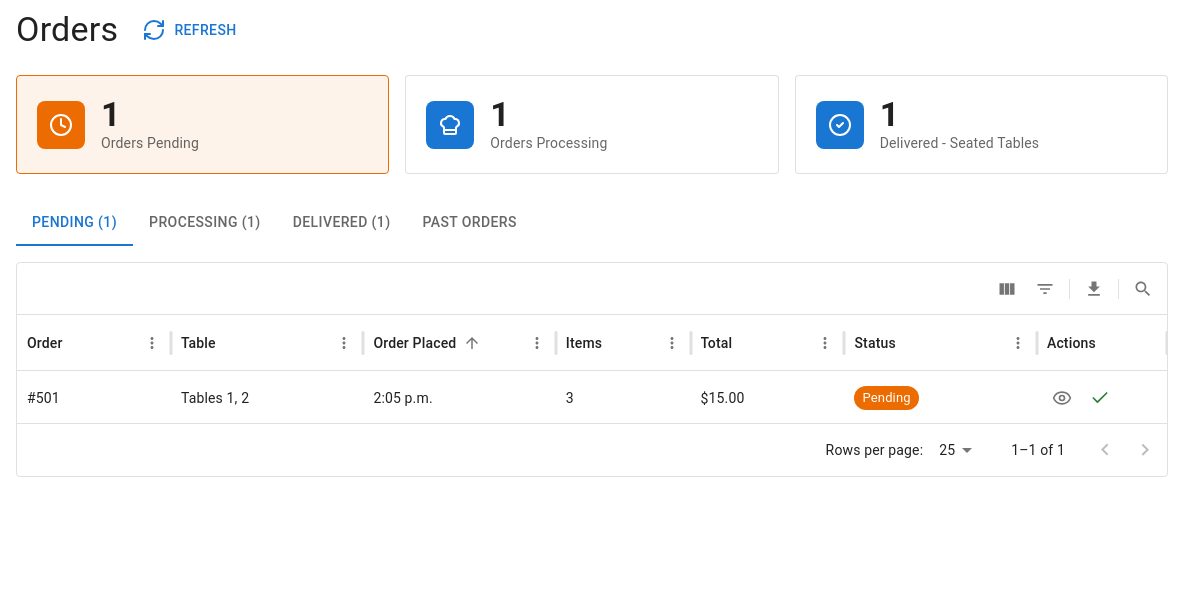
Test: Past orders › prefills dates to today by default and shows one row per dining session
expect the text "#501" is shown: met, box x1=27 y1=390 x2=60 y2=406
Click the tab "Past Orders" at (470, 222), box x1=407 y1=198 x2=533 y2=246
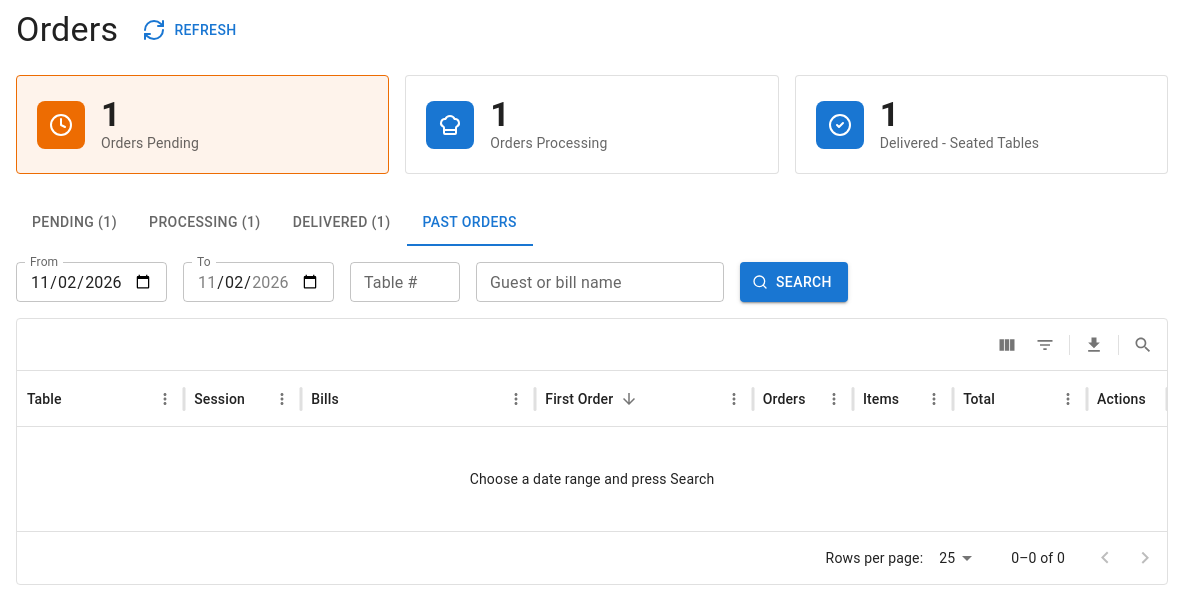
Click the button "Search" at (794, 282), box x1=740 y1=262 x2=848 y2=302
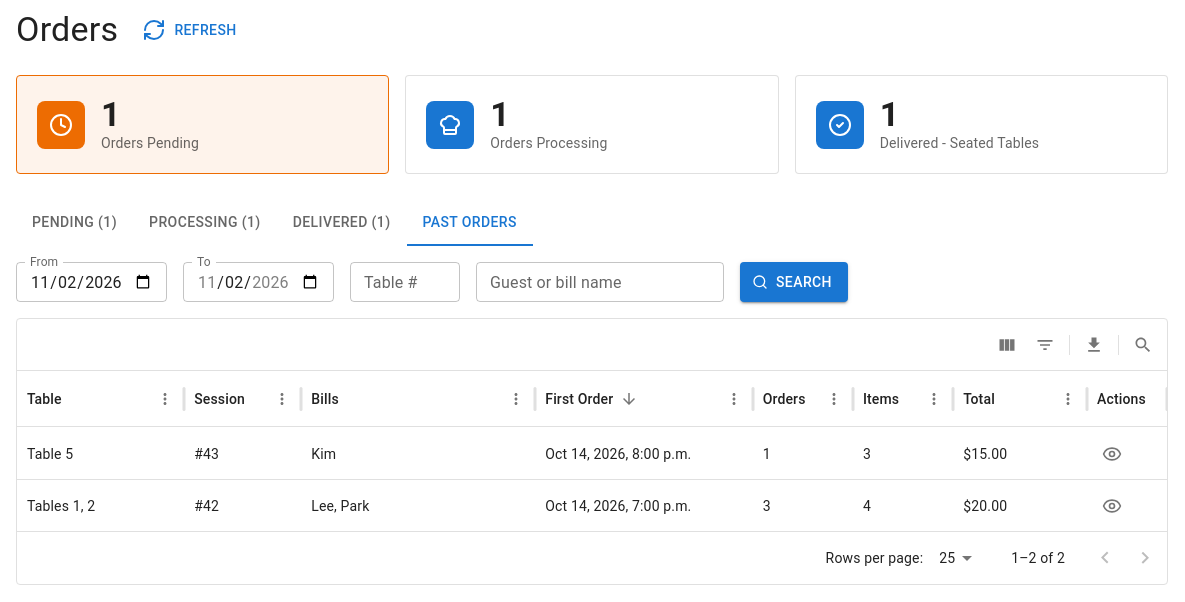
expect the text "Tables 1, 2" is shown: met, box x1=17 y1=479 x2=184 y2=531
expect the text "Lee, Park" is shown: met, box x1=301 y1=479 x2=535 y2=531
expect the text "3" in the row of "Tables 1, 2" is shown: met, box x1=763 y1=498 x2=771 y2=514
